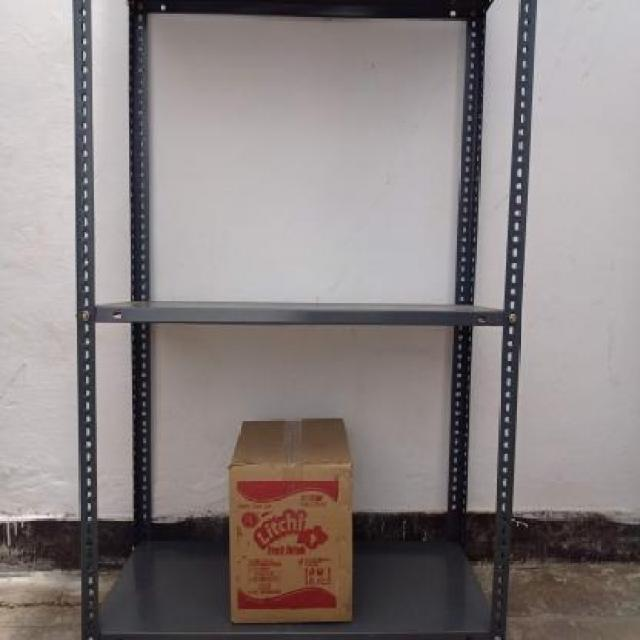box: (230, 465, 353, 621)
